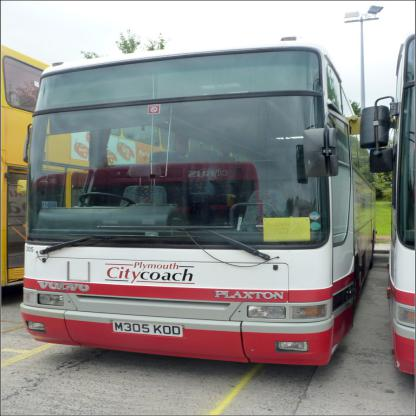Bus: (17, 38, 380, 367), (0, 41, 242, 288), (356, 30, 416, 378)
